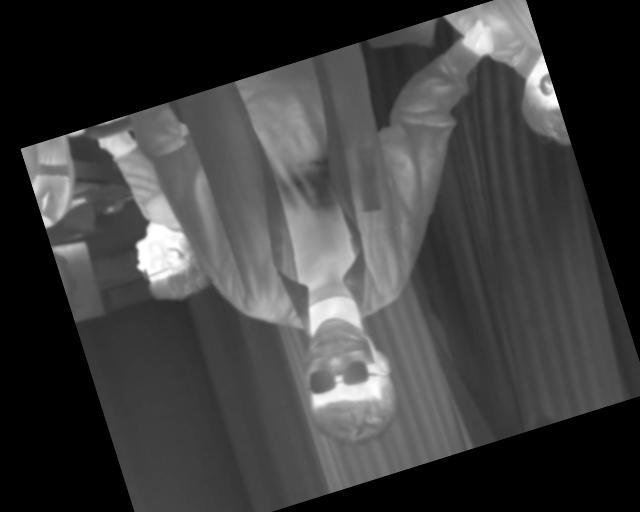face: (280, 303, 410, 458)
